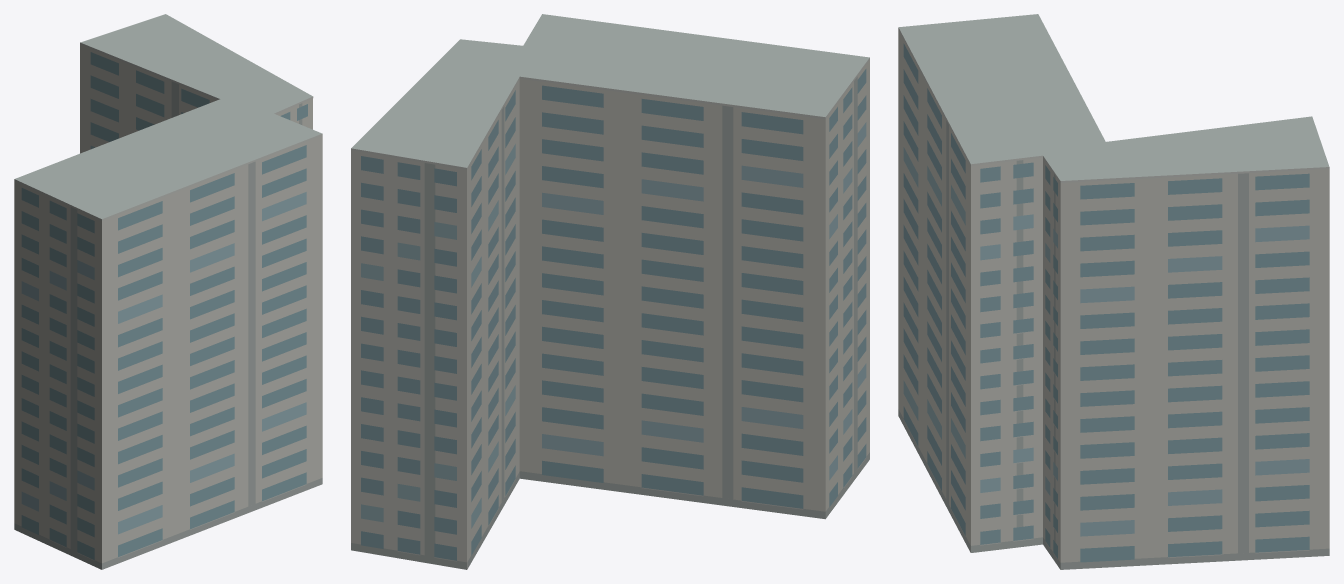
File: residential-f7b4dc42-33f1-4ed6-80bb-2be4506e5b67.glb
3 renders of one model, left to right at view 1: azimuth 30°, elevation 25°; view 2: azimuth 150°, elevation 25°; view 3: azimuth 270°, elevation 25°, orthographic. The views are drawn at different scales.
Visible parts, largest first — view 1: residential-f7b4dc42-33f1-4ed6-80bb-2be4506e5b67.tmp; view 2: residential-f7b4dc42-33f1-4ed6-80bb-2be4506e5b67.tmp; view 3: residential-f7b4dc42-33f1-4ed6-80bb-2be4506e5b67.tmp.
Part boxes in pixels (left/top/right/bottom): residential-f7b4dc42-33f1-4ed6-80bb-2be4506e5b67.tmp: left=14, top=14, right=322, bottom=569; residential-f7b4dc42-33f1-4ed6-80bb-2be4506e5b67.tmp: left=351, top=14, right=869, bottom=569; residential-f7b4dc42-33f1-4ed6-80bb-2be4506e5b67.tmp: left=898, top=14, right=1329, bottom=569.
Size of the model in its own units: 42.39 by 46 by 46.22.
